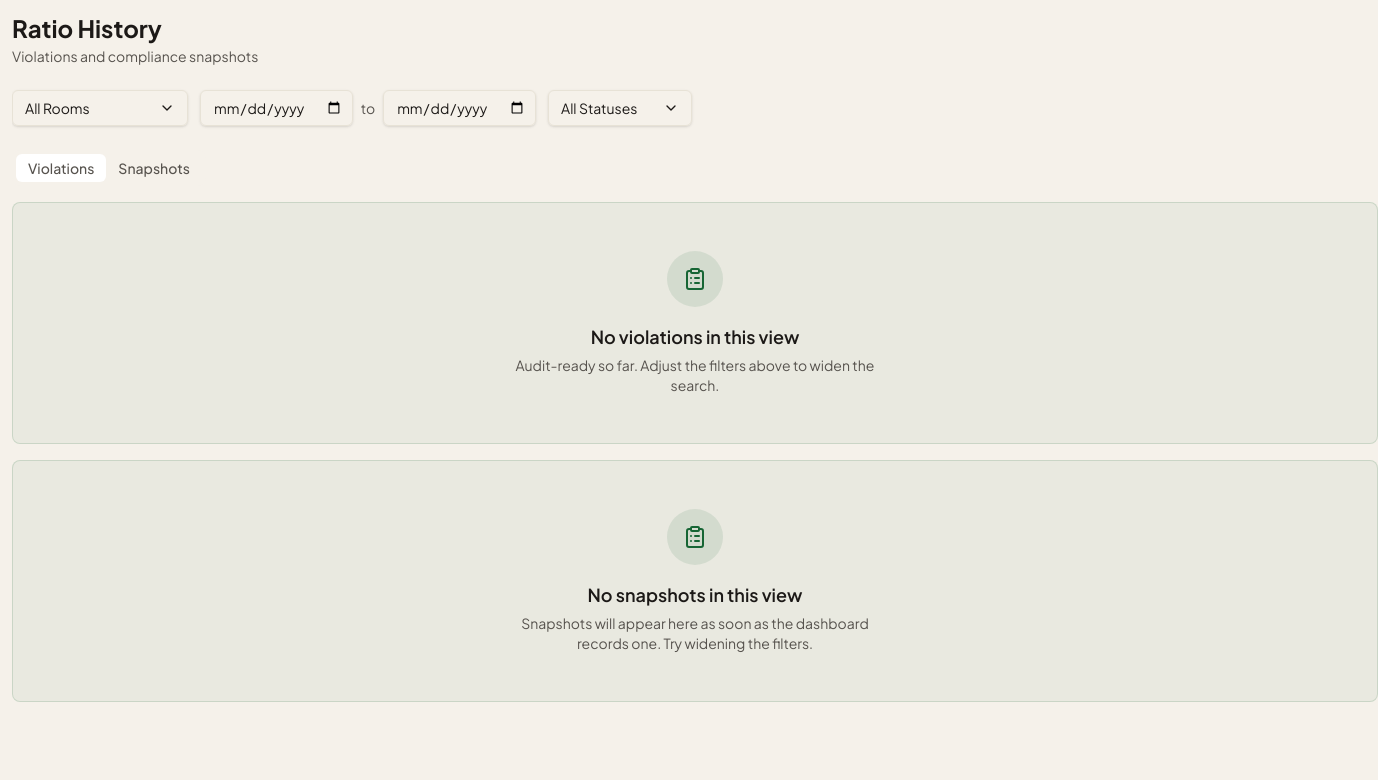
it: RatioHistoryPage › shows Clear filters when the from date is set
The width and height of the screenshot is (1378, 780).
Type "2026-04-01" into the date field named "From date" at x=276, y=108, box [200,90,353,126]
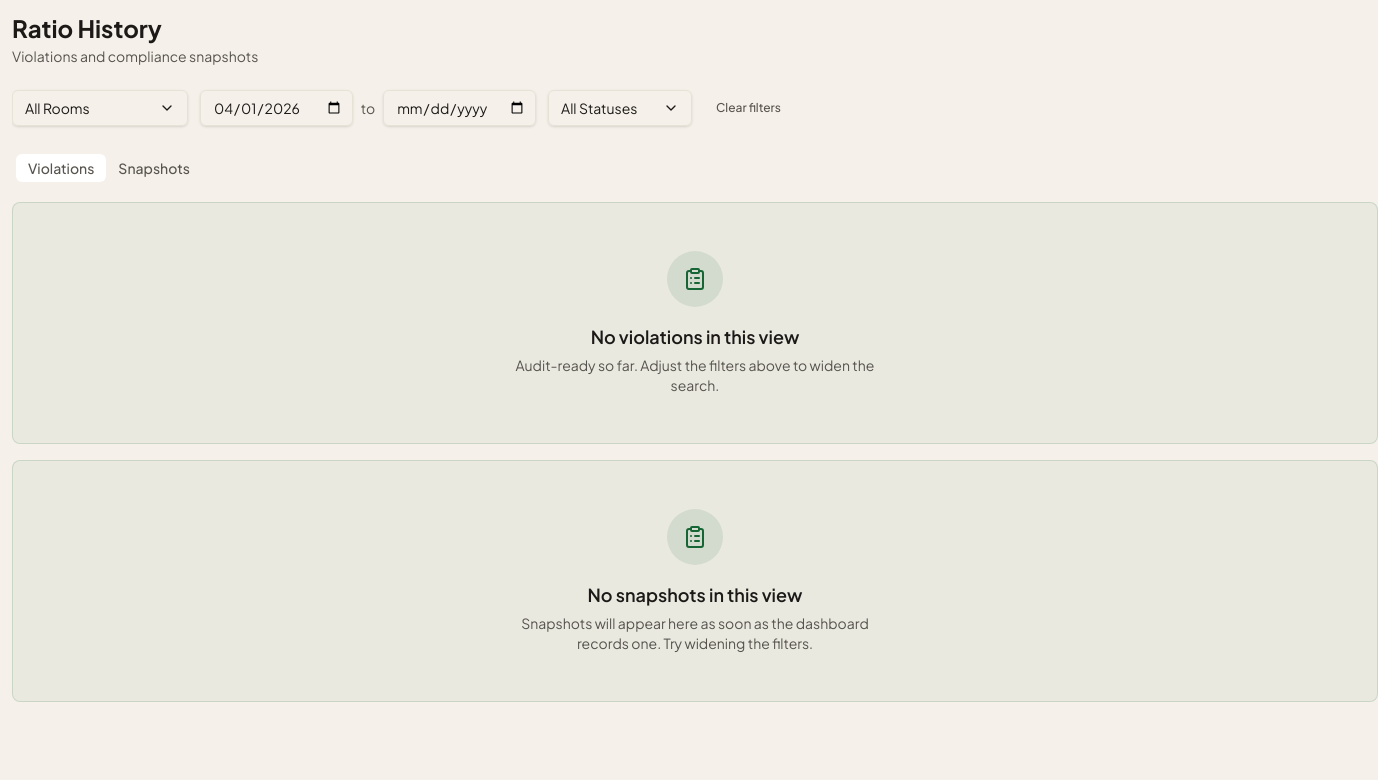
Now the button "Clear filters" is shown, box [704,92,793,124]
